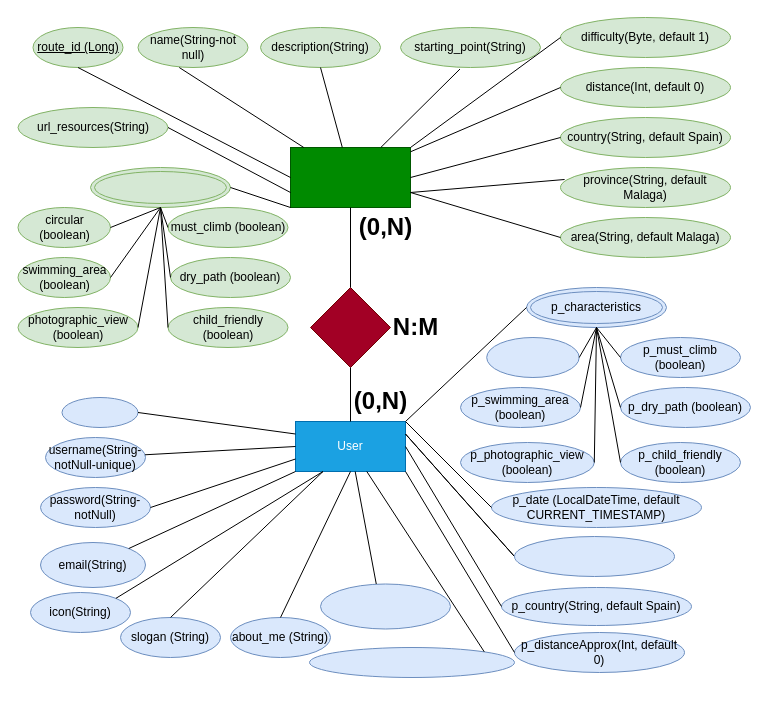
Some shapes in this 768 by 703 pixel diagram are drawn without their labels. Here are the shapes that lost their labels. From the top down, the box of each, then its label:
(90, 166, 230, 208): characteristics
(290, 146, 410, 208): Route
(310, 286, 390, 368): My_routes
(486, 336, 579, 378): p_circular (boolean)
(61, 396, 138, 428): user_id
(514, 536, 674, 576): p_difficulty(Byte, default 1)
(320, 583, 450, 629): p_area(String, default Malaga)
(308, 646, 514, 678): p_province (String,default Malaga)
